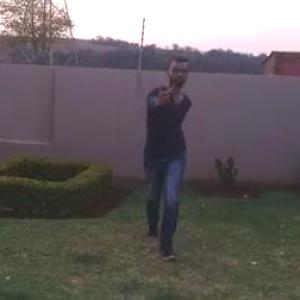takeoff-hand: (154, 75, 181, 110)
